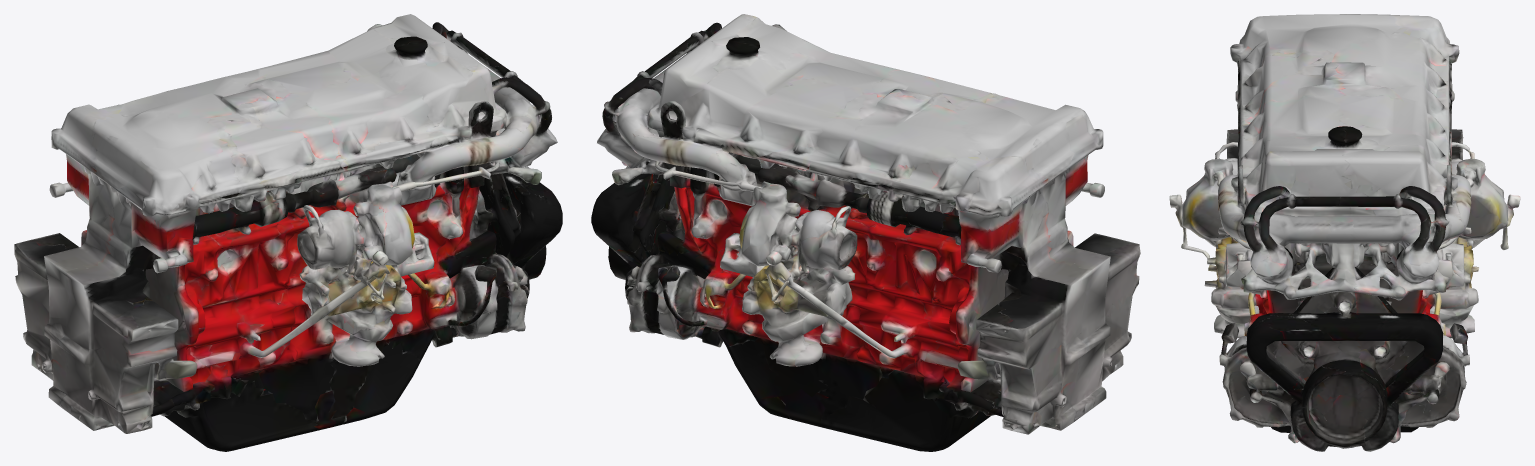
The model's file is motor-hino-j08.glb.
3 renders of one model, left to right at view 1: azimuth 30°, elevation 25°; view 2: azimuth 150°, elevation 25°; view 3: azimuth 270°, elevation 25°, orthographic.
Size of the model in its own units: 1.9 by 1.31 by 1.25.
Materials: 1 (1 with a texture image).
